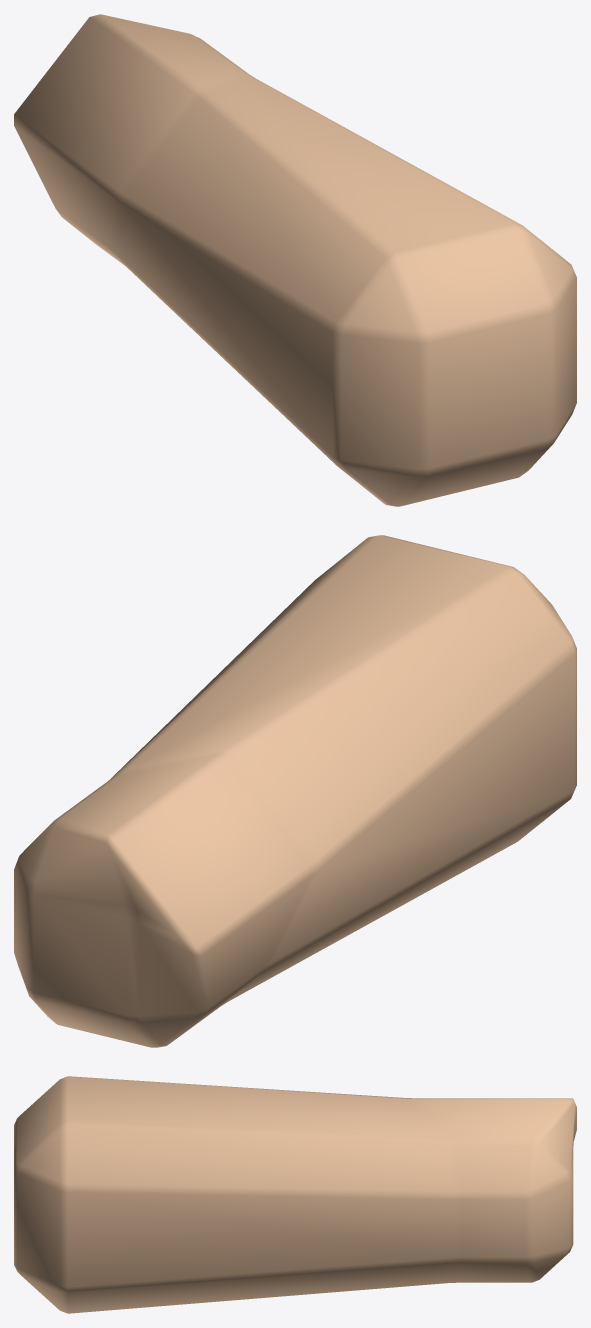
File: Table.fbx
3 views of the same model, one above another, from view 1: azimuth 30°, elevation 25°; view 2: azimuth 150°, elevation 25°; view 3: azimuth 270°, elevation 25° (orthographic). The views are drawn at different scales.
Parts seen in each view (by area): view 1: Cube.001; view 2: Cube.001; view 3: Cube.001.
Boxes of the visible parts, bbox=[...] form: Cube.001: bbox=[14, 14, 576, 506]; Cube.001: bbox=[14, 535, 576, 1047]; Cube.001: bbox=[14, 1076, 576, 1313].
Size of the model in its own units: 660 by 660 by 1749.
